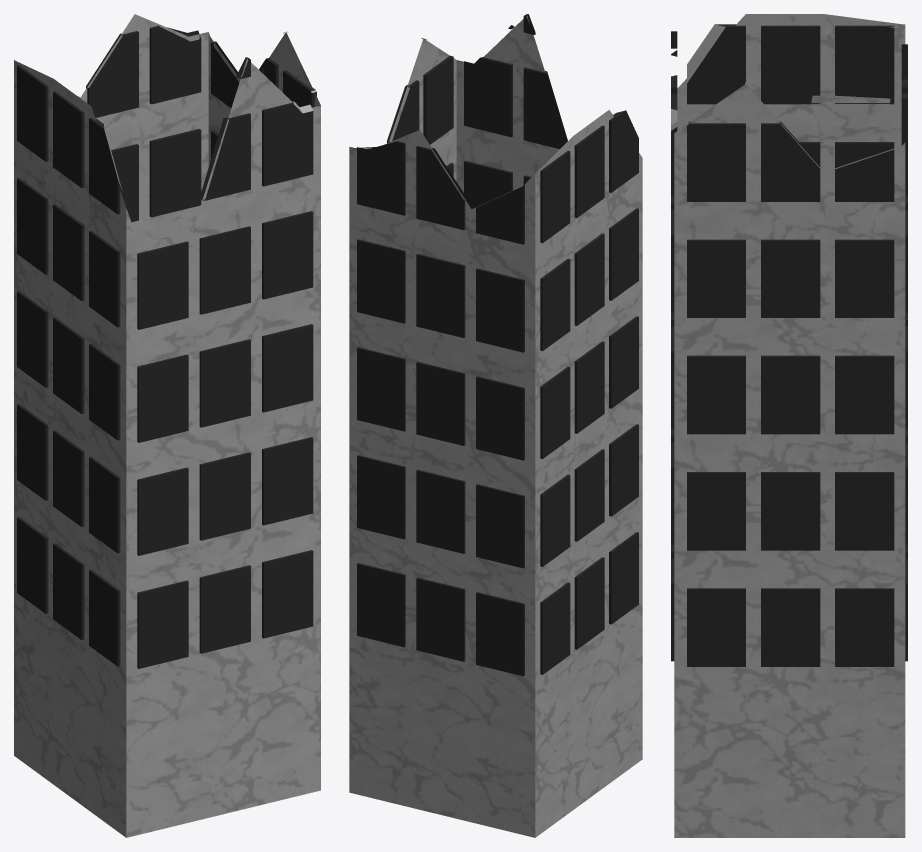
Rendered from Building1Ruin.fbx.
3 views of the same model, side by side, from view 1: azimuth 30°, elevation 25°; view 2: azimuth 150°, elevation 25°; view 3: azimuth 270°, elevation 25° (orthographic). The views are drawn at different scales.
Visible parts, largest first — view 1: Cube.006; view 2: Cube.006; view 3: Cube.006.
Boxes of the visible parts, x1=… form: Cube.006: x1=14, y1=14, x2=320, y2=837; Cube.006: x1=349, y1=14, x2=642, y2=837; Cube.006: x1=671, y1=14, x2=907, y2=837.
Bounding box in the file's own units: 1023 × 3683 × 1025.
2 materials, 2 textured.
